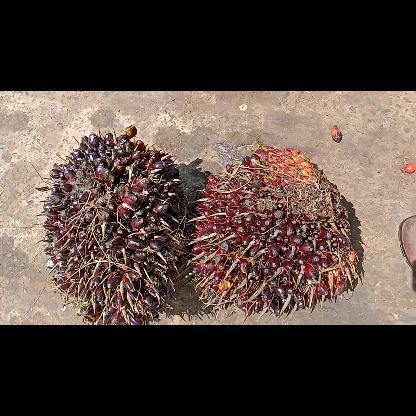TBS mentah: (187, 144, 361, 312), (38, 124, 184, 324)
